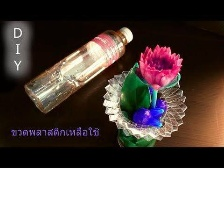bottle: (19, 24, 137, 118)
